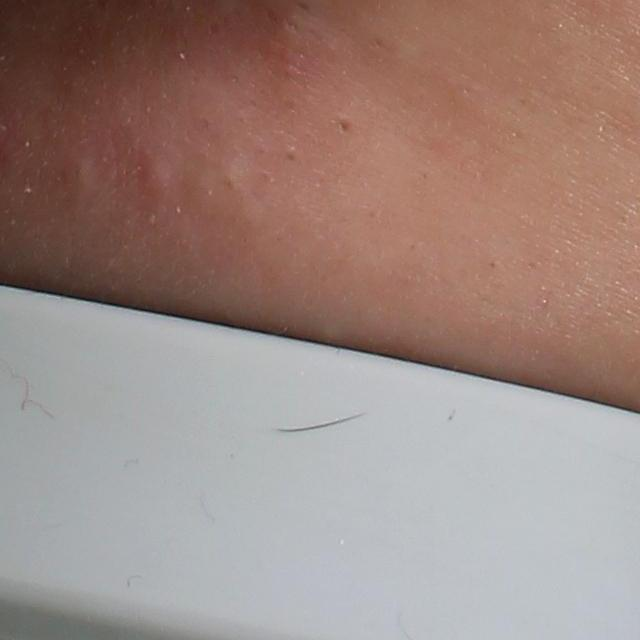comedo: (69, 155, 93, 186), (332, 114, 355, 137), (283, 145, 297, 164)
